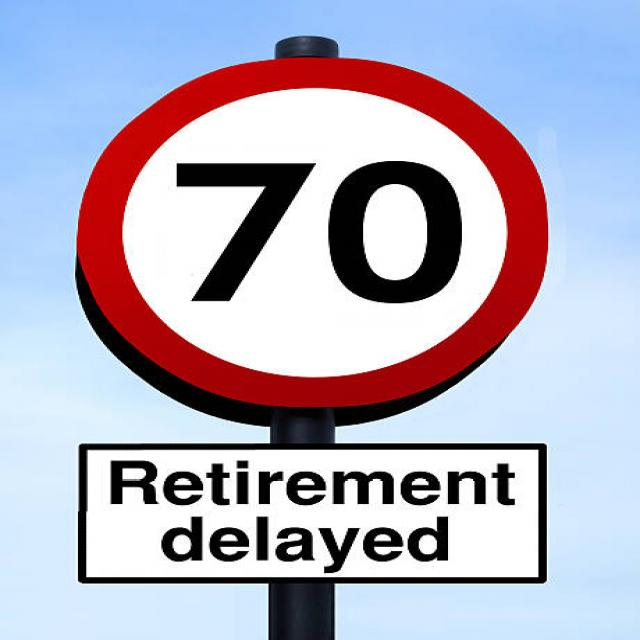speed_limit_70: (67, 50, 559, 411)
